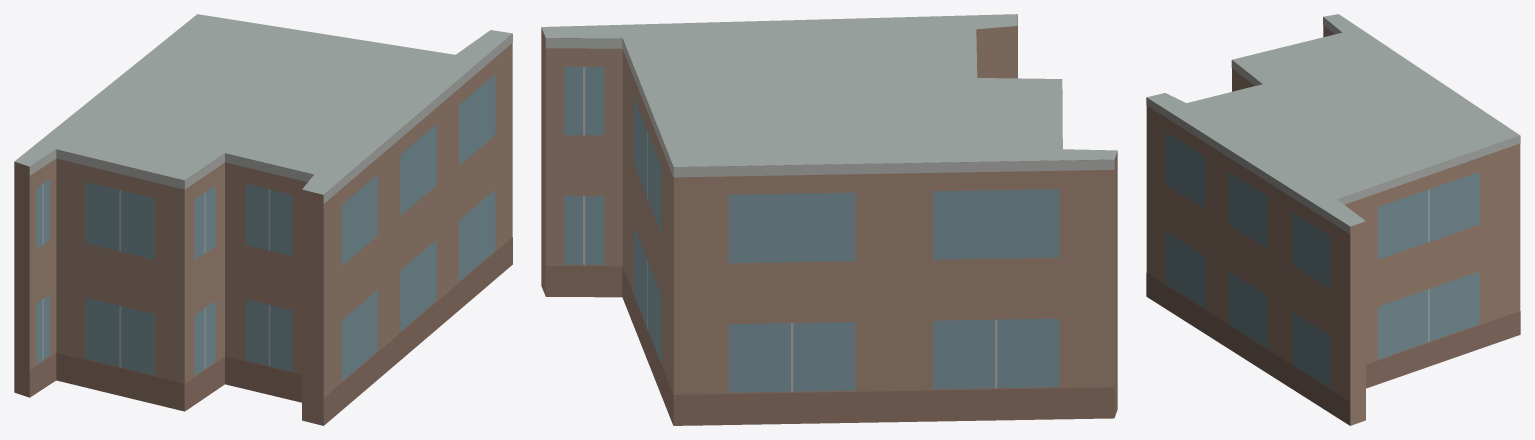
The model's file is survey-upis-32946196.glb.
3 views of the same model, side by side, from view 1: azimuth 30°, elevation 25°; view 2: azimuth 150°, elevation 25°; view 3: azimuth 270°, elevation 25° (orthographic). The views are drawn at different scales.
Visible parts, largest first — view 1: survey-upis-32946196.tmp; view 2: survey-upis-32946196.tmp; view 3: survey-upis-32946196.tmp.
Boxes of the visible parts, x1,y1,x2,y2 form: survey-upis-32946196.tmp: (14,14,512,425); survey-upis-32946196.tmp: (541,14,1117,425); survey-upis-32946196.tmp: (1146,14,1520,425).
Bounding box in the file's own units: 13.96 × 6.1 × 10.38.
